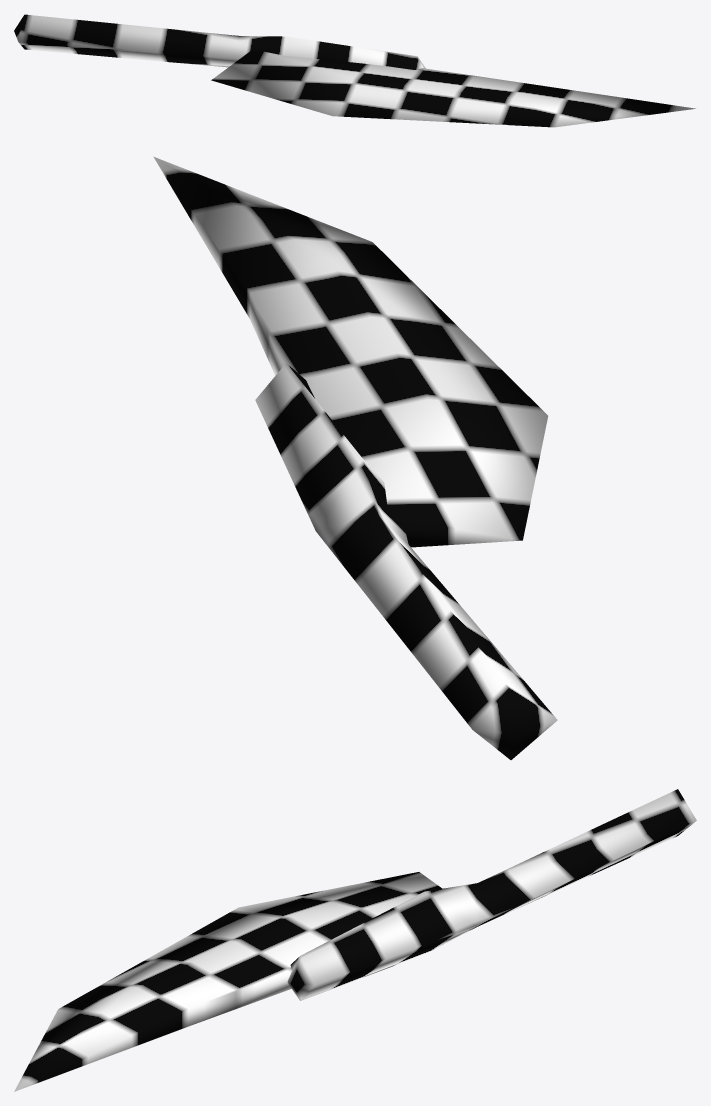
File: initwesw1.dae
3 renders of one model, top to bottom at view 1: azimuth 30°, elevation 25°; view 2: azimuth 150°, elevation 25°; view 3: azimuth 270°, elevation 25°, orthographic. The views are drawn at different scales.
Parts seen in each view (by area): view 1: weapon; view 2: weapon; view 3: weapon.
Part boxes in pixels (x1,y1,x2,y2): weapon: (14, 14, 695, 127); weapon: (153, 156, 557, 759); weapon: (14, 789, 696, 1091).
Bounding box in the file's own units: 1.48 × 1.48 × 0.1499.
1 material, 1 textured.
